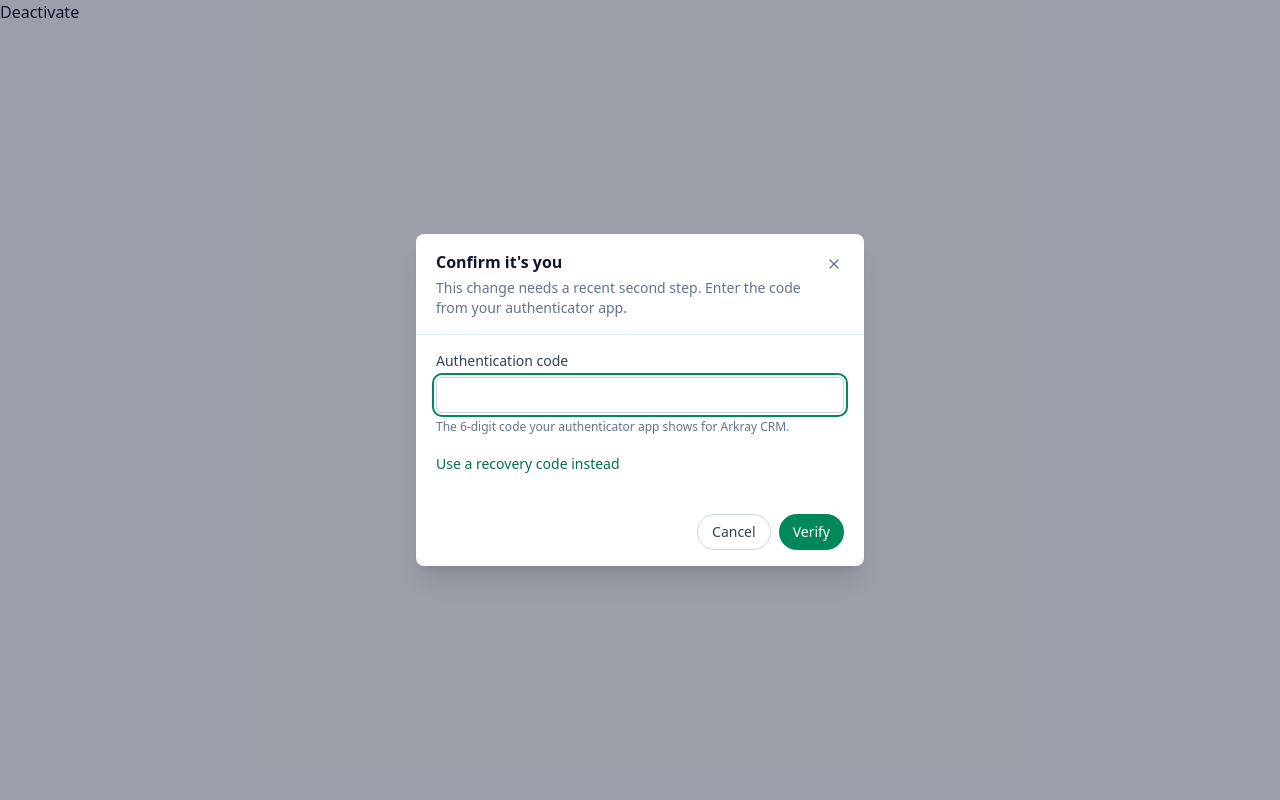
step-up verification (ADR-0033) › asks for a code, verifies it, and repeats the refused request exactly once
The width and height of the screenshot is (1280, 800).
Type "654321" into the field labelled "Authentication code" at (640, 395), box x1=436 y1=377 x2=844 y2=413
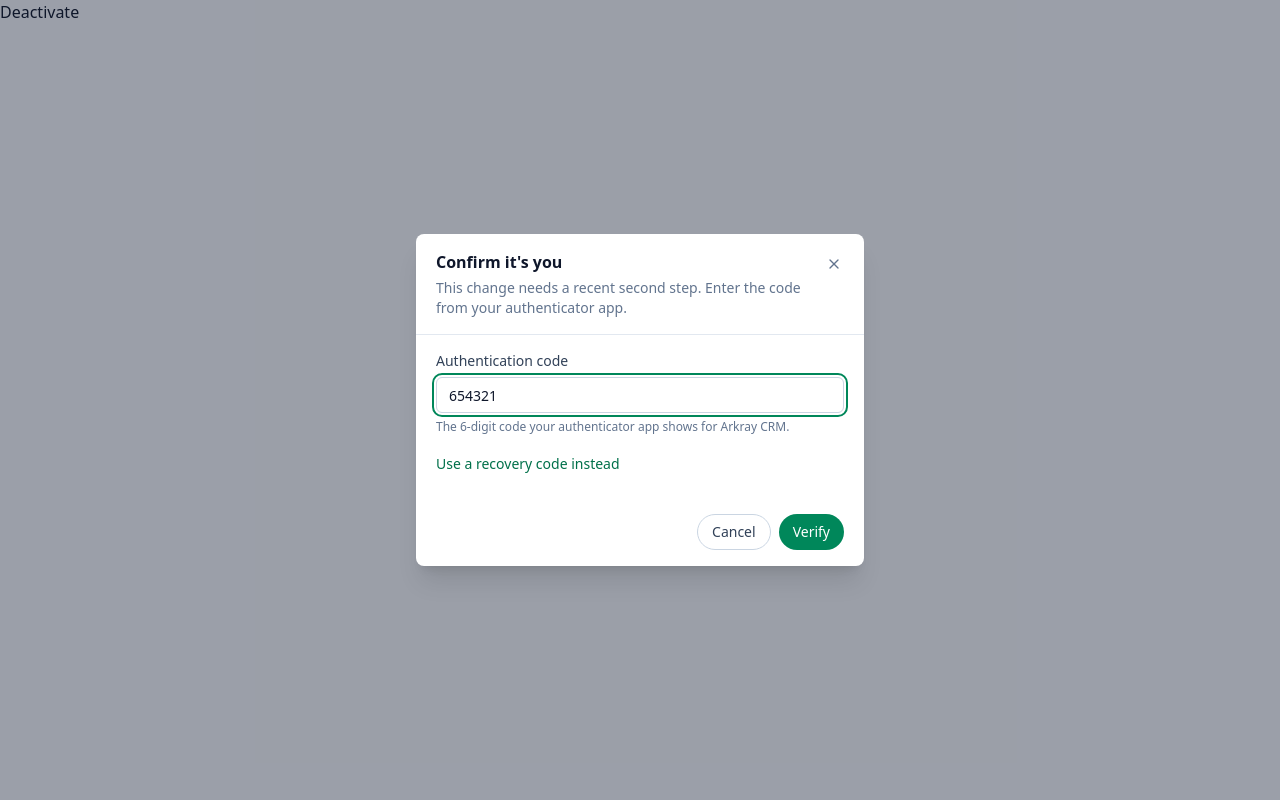
Click the button "Verify" at (811, 532), box x1=779 y1=514 x2=844 y2=550
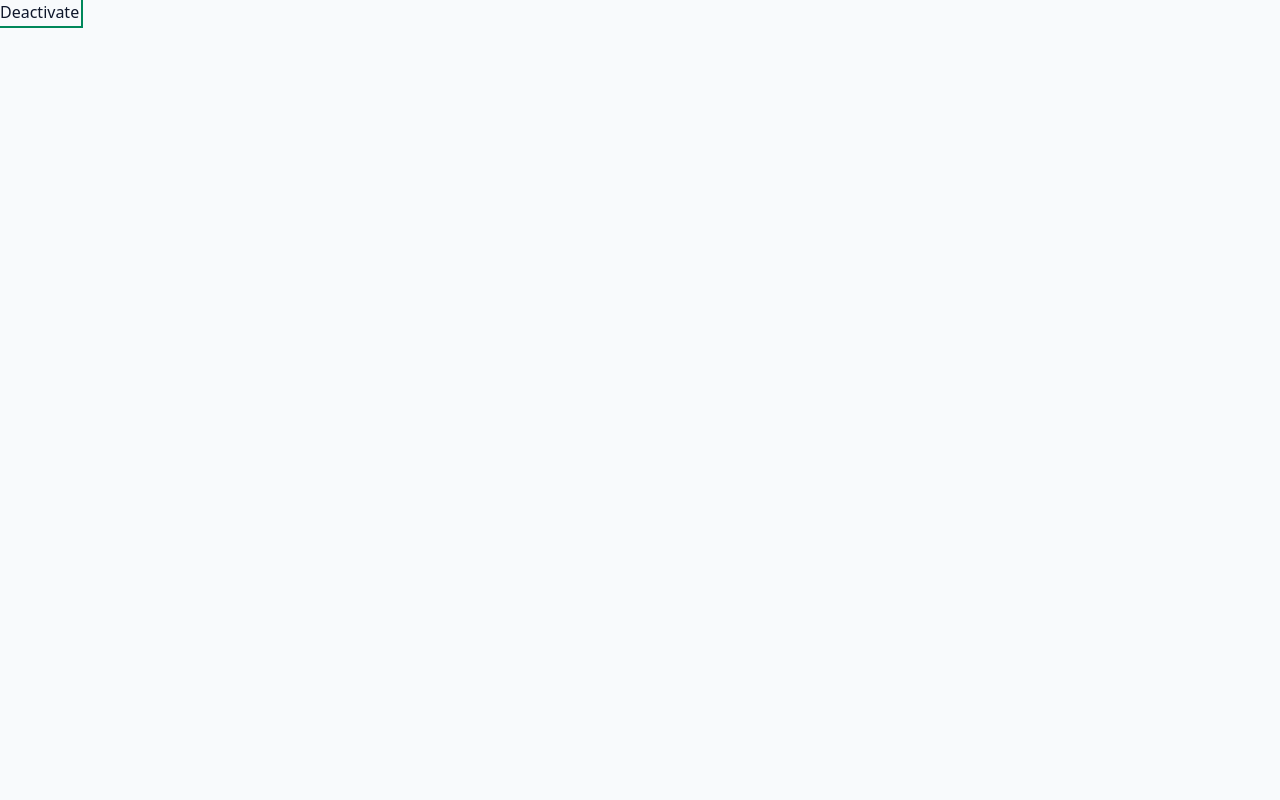
Expected: the text "654321" is not shown
Result: the dialog is gone
